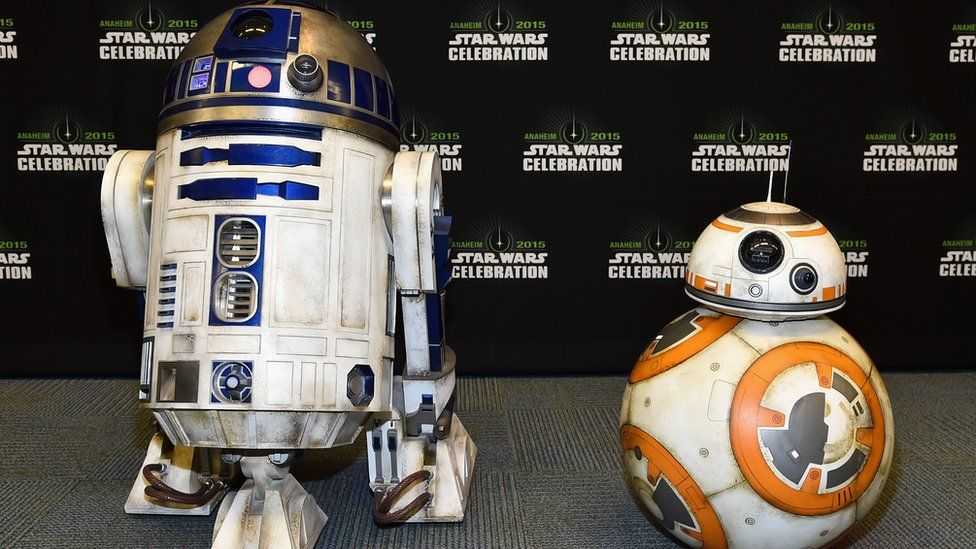bb8: (619, 201, 894, 549)
